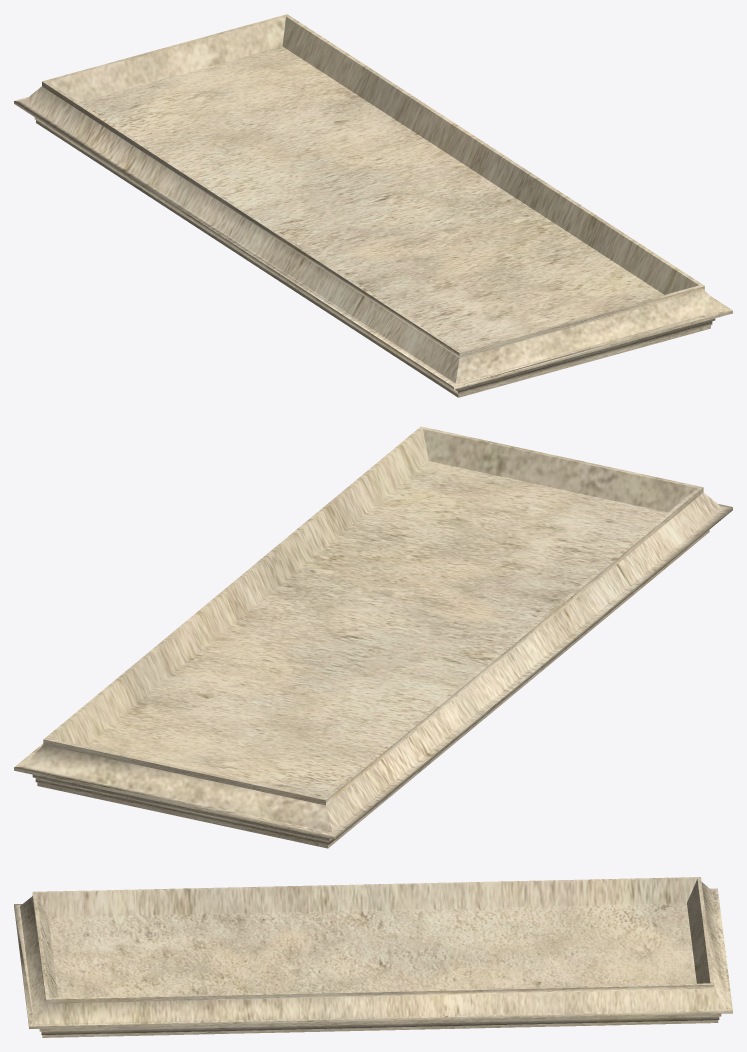
File: concrete_20.fbx
3 renders of one model, top to bottom at view 1: azimuth 30°, elevation 25°; view 2: azimuth 150°, elevation 25°; view 3: azimuth 270°, elevation 25°, orthographic. The views are drawn at different scales.
Parts seen in each view (by area): view 1: concrete_20; view 2: concrete_20; view 3: concrete_20.
Boxes of the visible parts, bbox=[...] form: concrete_20: bbox=[14, 14, 732, 397]; concrete_20: bbox=[14, 426, 732, 848]; concrete_20: bbox=[14, 877, 732, 1037].
Size of the model in its own units: 354 by 43.86 by 778.
